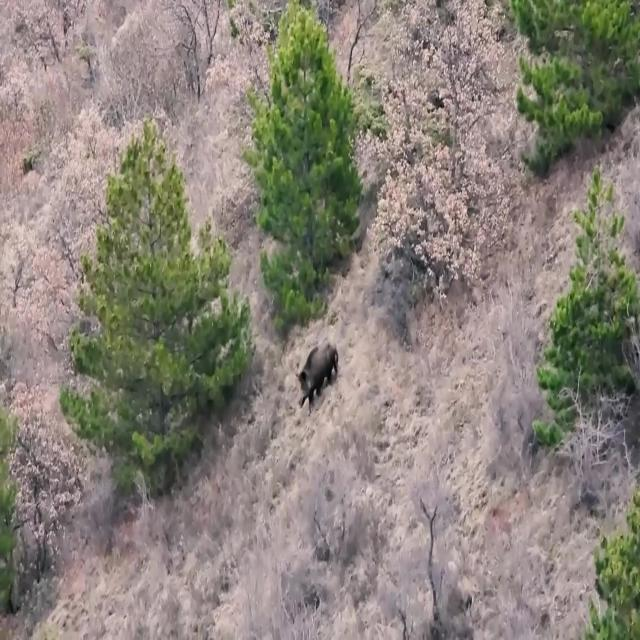pig: (294, 337, 344, 412)
